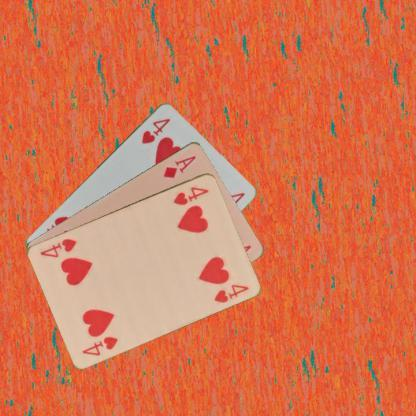4h: (139, 115, 172, 145), (170, 184, 210, 206), (79, 334, 119, 356)
Ad: (160, 152, 198, 180)
